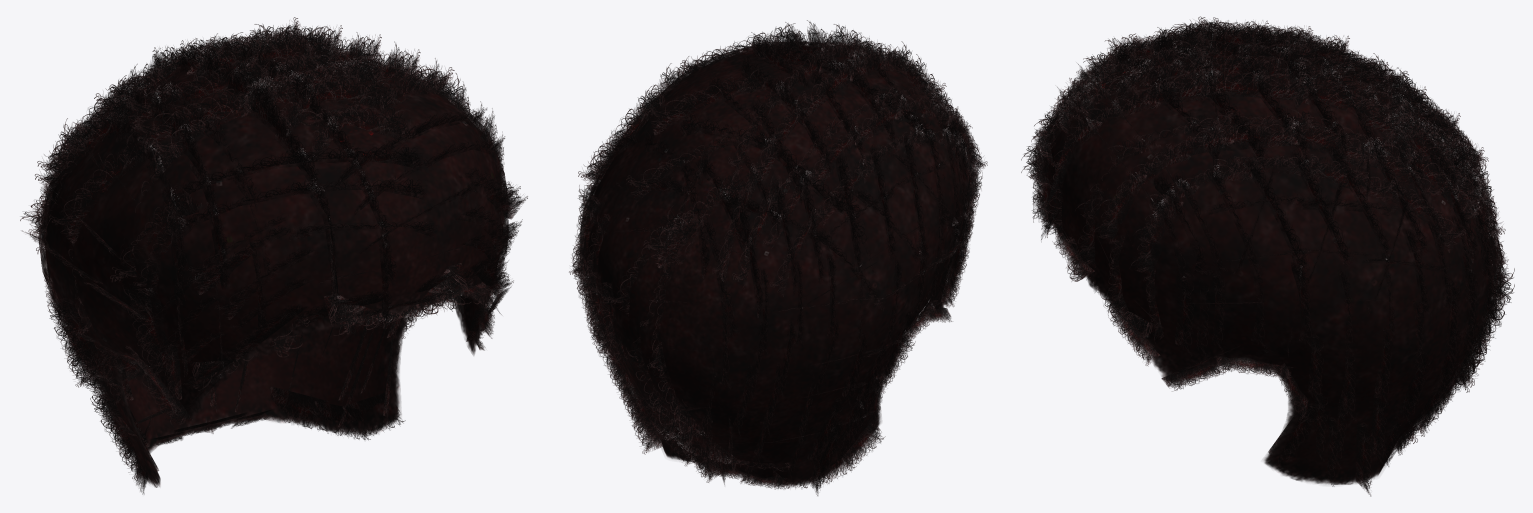
The model's file is afro01-mobile.glb.
3 views of the same model, side by side, from view 1: azimuth 30°, elevation 25°; view 2: azimuth 150°, elevation 25°; view 3: azimuth 270°, elevation 25° (orthographic). The views are drawn at different scales.
Parts seen in each view (by area): view 1: afro01; view 2: afro01; view 3: afro01.
Boxes of the visible parts, bbox=[...] form: afro01: bbox=[20, 17, 527, 494]; afro01: bbox=[569, 20, 987, 495]; afro01: bbox=[1021, 16, 1514, 496].
Bounding box in the file's own units: 0.2034 × 0.216 × 0.2362.
1 material, 1 textured.
